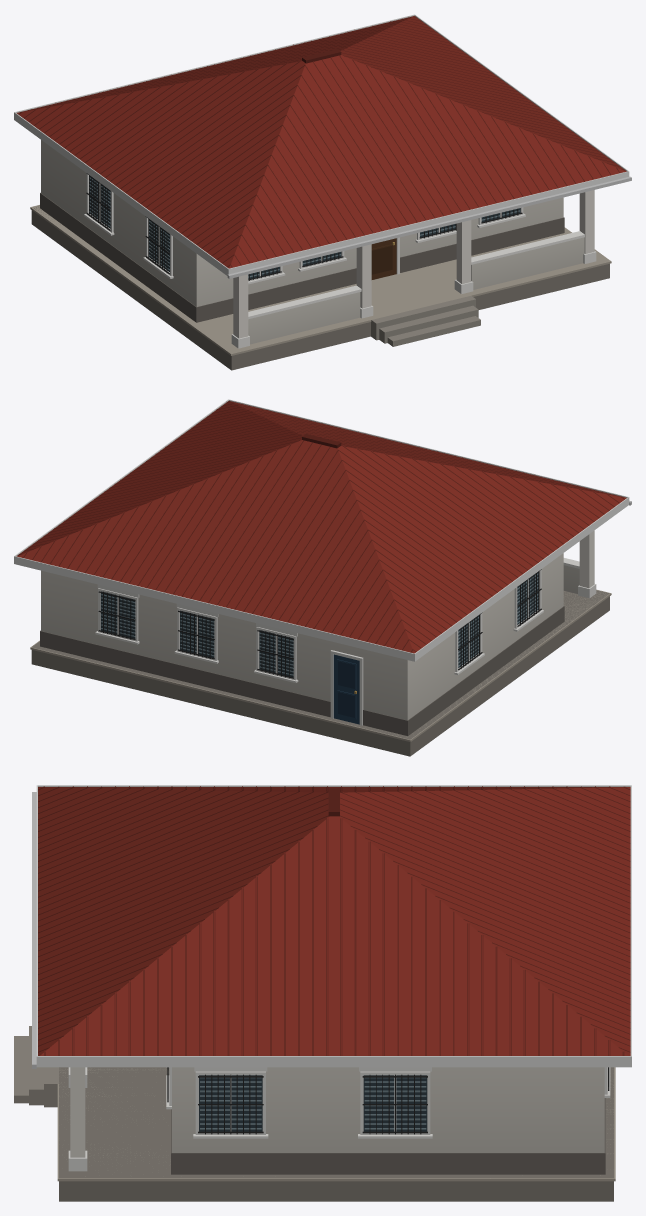
File: ns_bungalow.glb
The picture shows the model from 3 angles, top to bottom: view 1: azimuth 30°, elevation 25°; view 2: azimuth 150°, elevation 25°; view 3: azimuth 270°, elevation 25°; orthographic projection. The views are drawn at different scales.
Parts seen in each view (by area): view 1: ns_bungalow; view 2: ns_bungalow; view 3: ns_bungalow.
Part boxes in pixels (left/top/right/bottom): ns_bungalow: left=14, top=14, right=631, bottom=370; ns_bungalow: left=14, top=399, right=631, bottom=756; ns_bungalow: left=14, top=785, right=631, bottom=1201.
Size of the model in its own units: 13.72 by 6.41 by 13.14.
